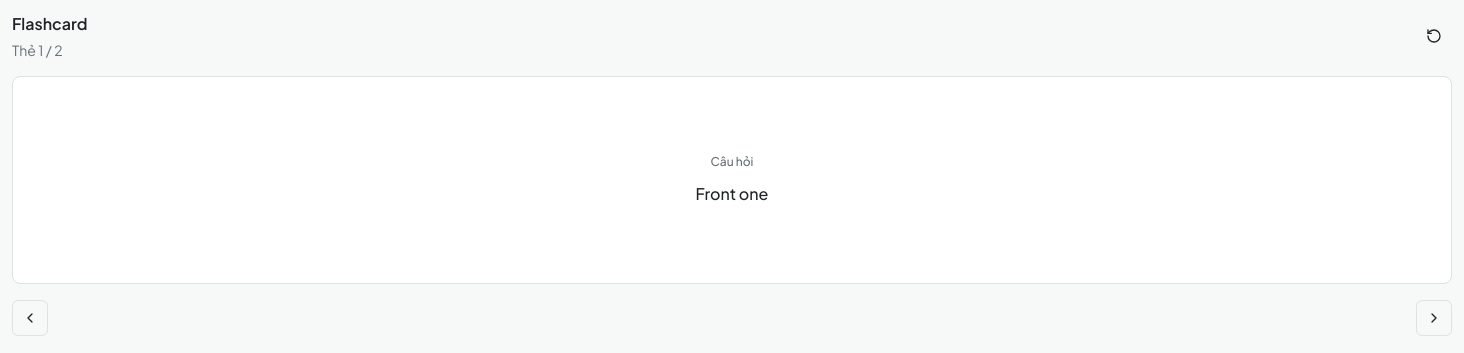
it: review and document UI › flips flashcards, wraps navigation and resets the visible side
Click the button "Câu hỏi Front one" at (732, 180), box top-left (12, 76), bottom-right (1452, 284)
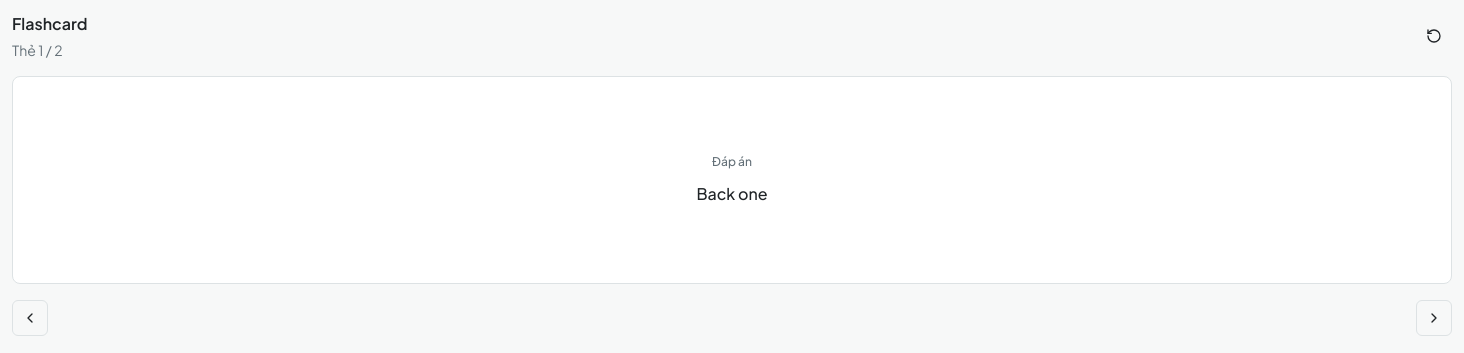
Check: the button "Đáp án Back one" is shown, box top-left (12, 76), bottom-right (1452, 284)
Click the button named "Trước" at (30, 318), box top-left (12, 300), bottom-right (48, 336)
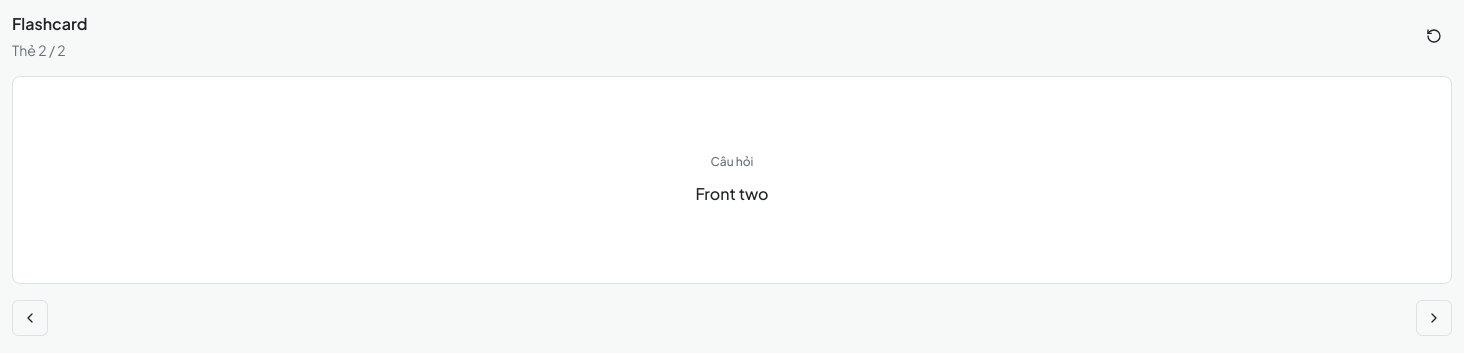
Check: the button "Câu hỏi Front two" is shown
Click the button "Câu hỏi Front two" at (732, 180), box top-left (12, 76), bottom-right (1452, 284)
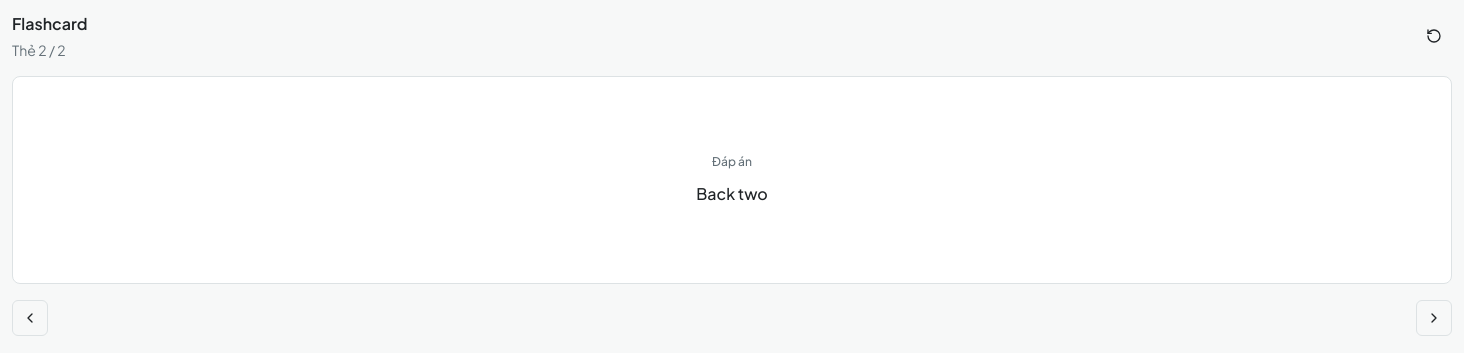
Click the button named "Mặt trước" at (1434, 36), box top-left (1416, 18), bottom-right (1452, 54)
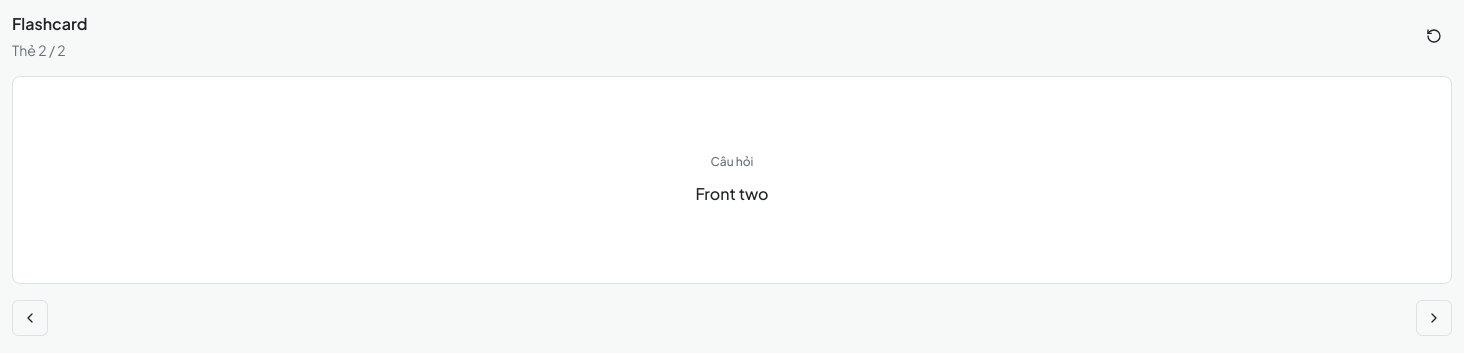
Check: the button "Câu hỏi Front two" is shown, box top-left (12, 76), bottom-right (1452, 284)
Click the button named "Tiếp" at (1434, 318), box top-left (1416, 300), bottom-right (1452, 336)
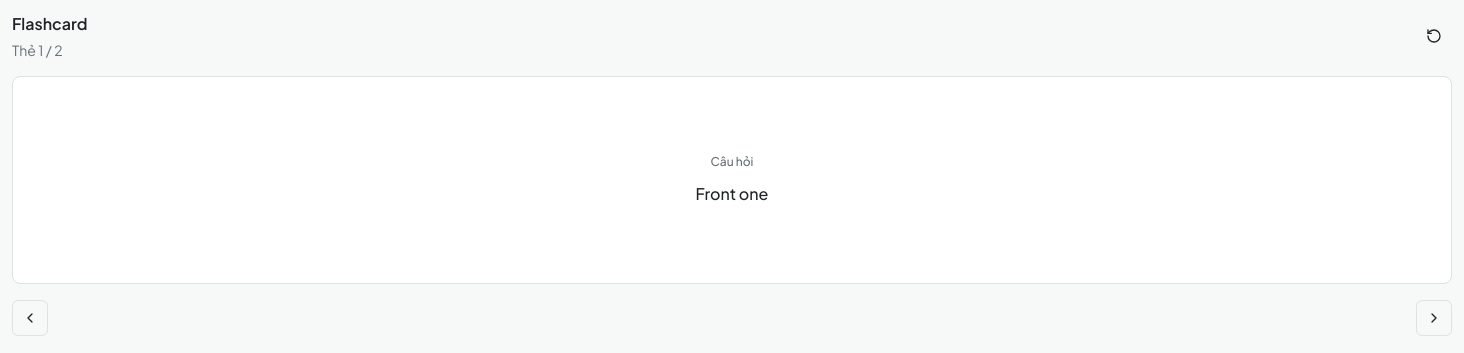
Check: the button "Câu hỏi Front one" is shown, box top-left (12, 76), bottom-right (1452, 284)
